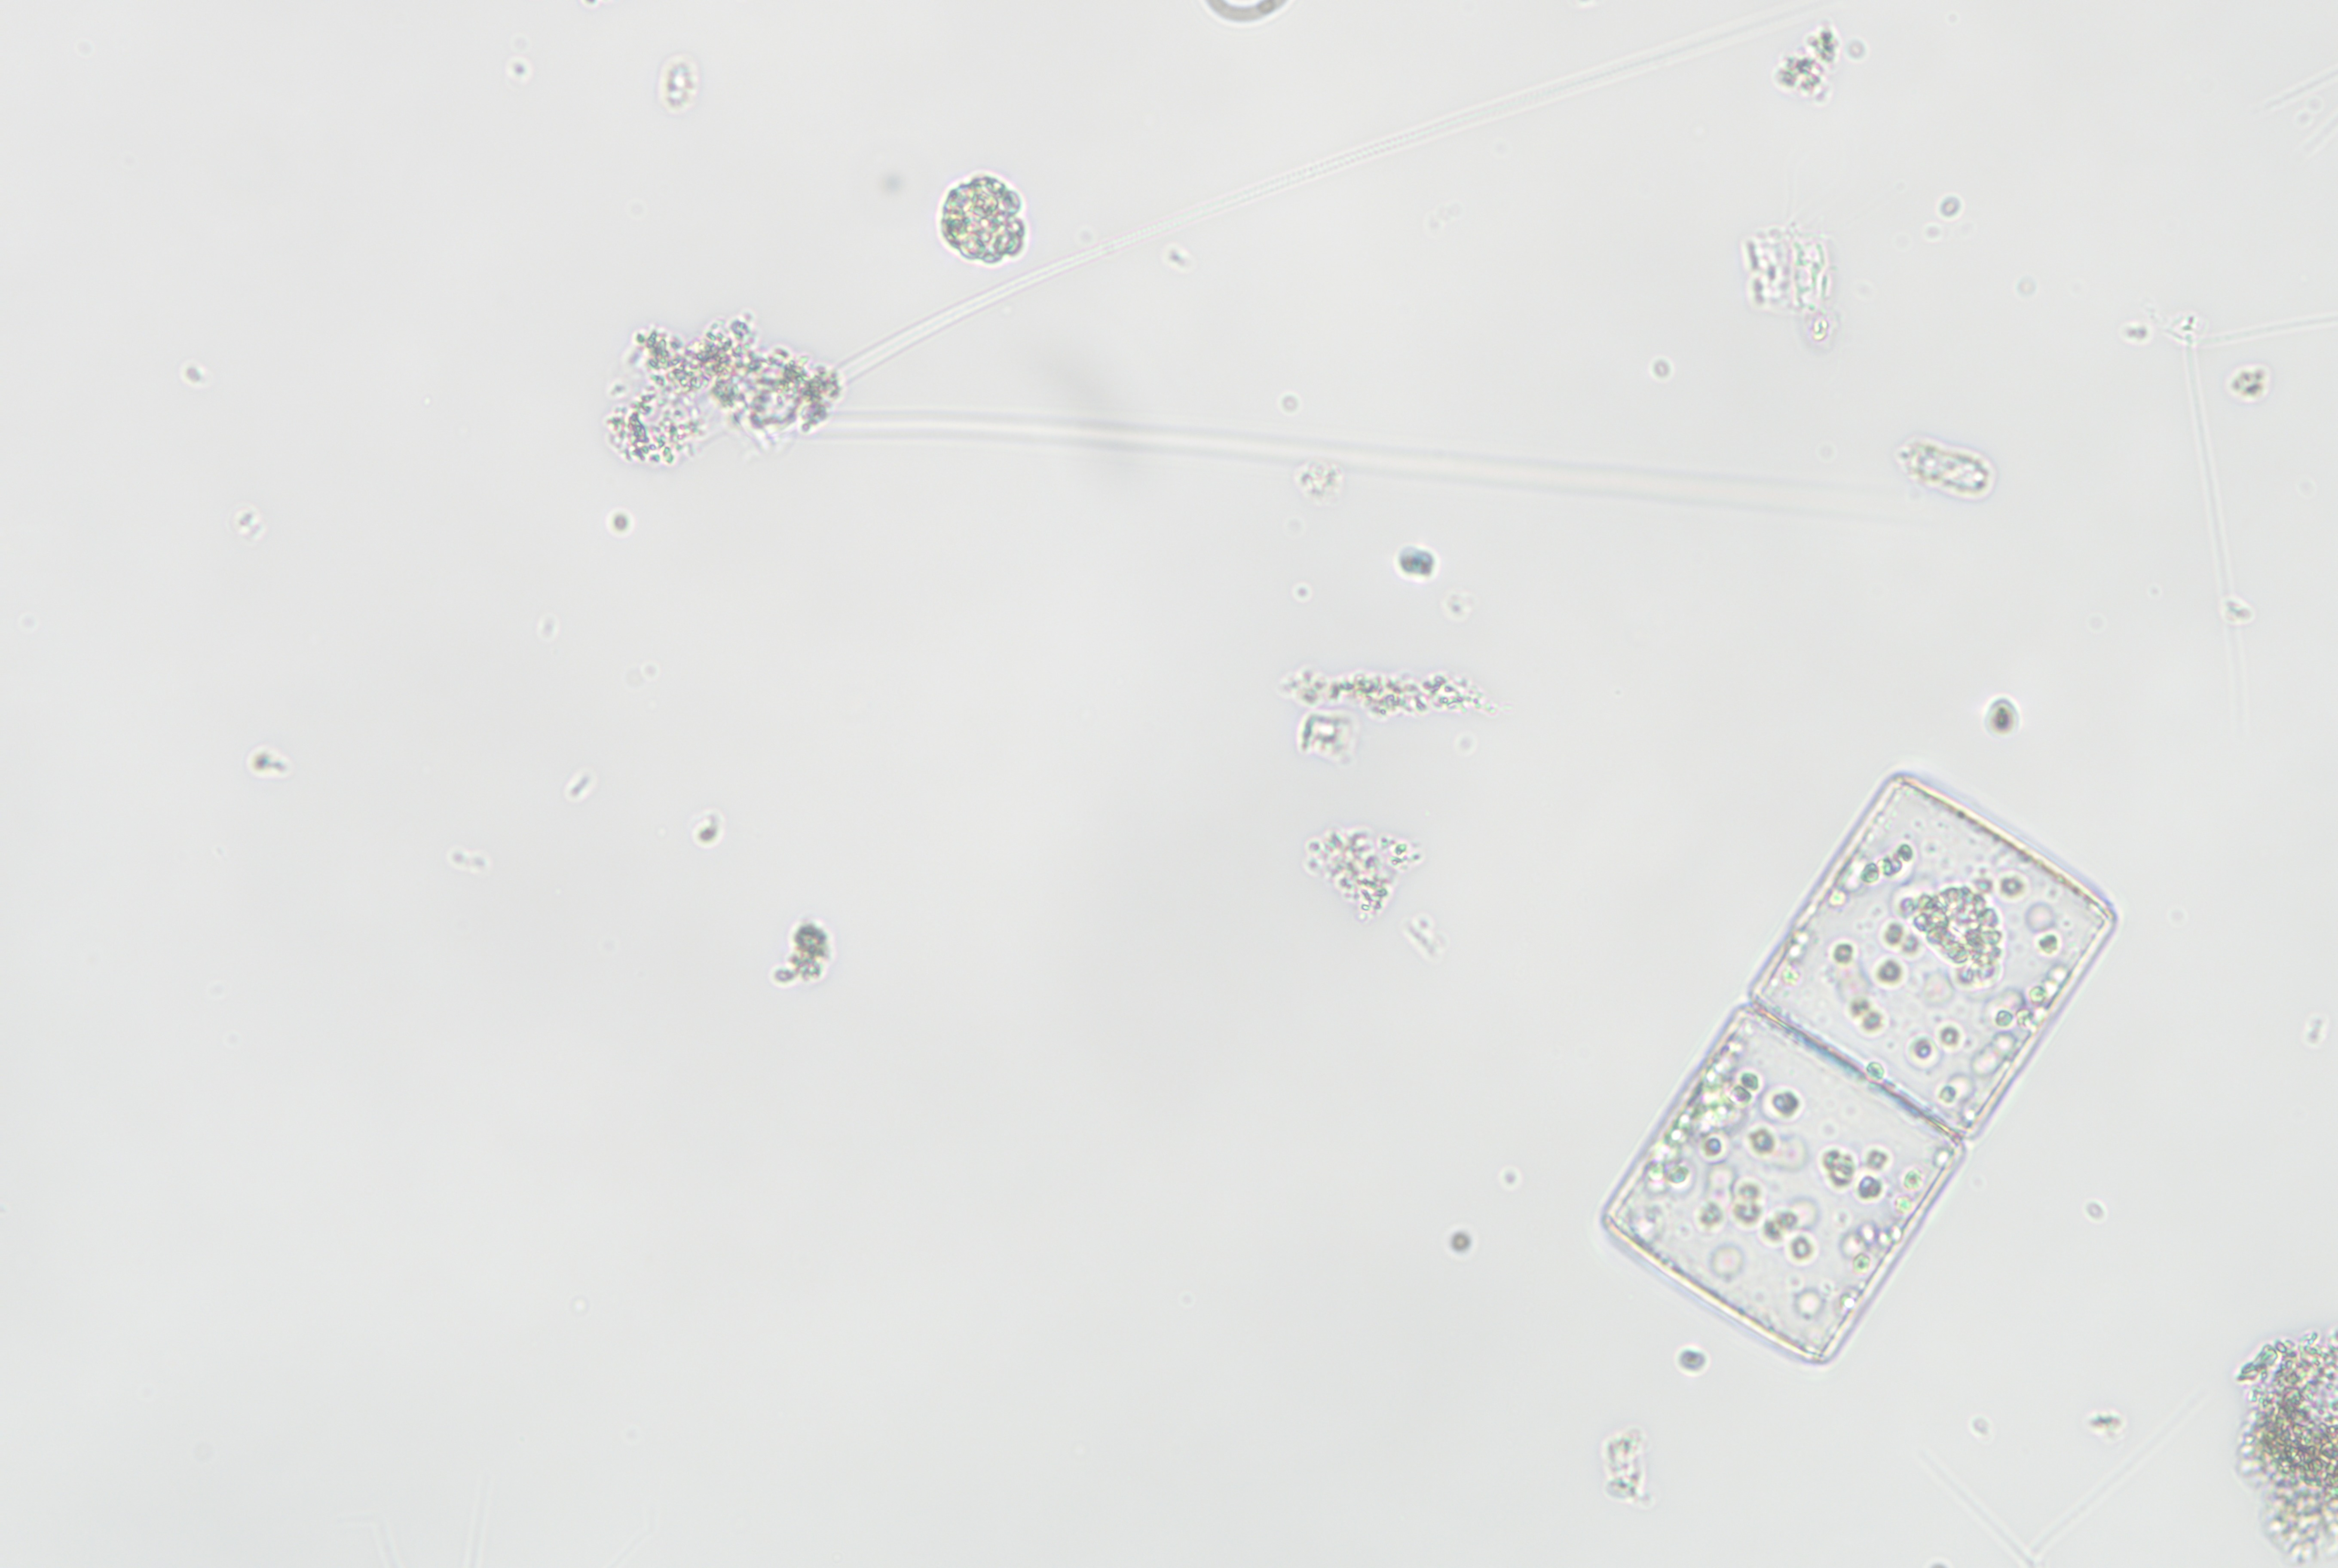guinardia flaccida: (1579, 738, 2128, 1370)
